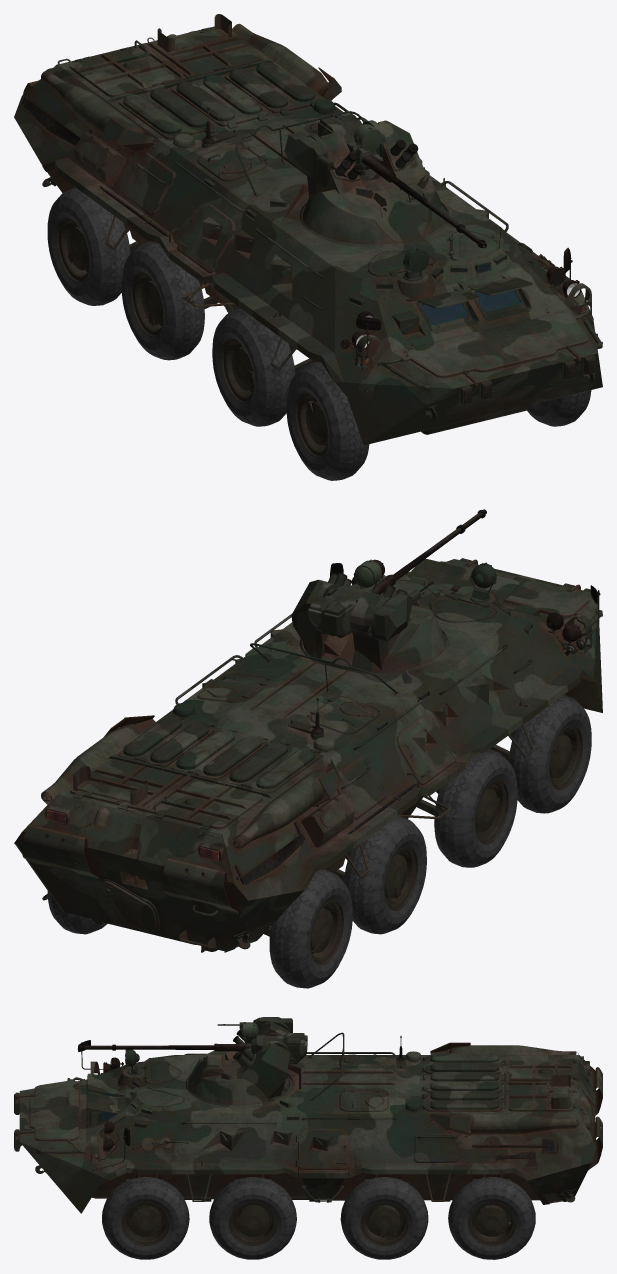
3 renders of one model, top to bottom at view 1: azimuth 30°, elevation 25°; view 2: azimuth 150°, elevation 25°; view 3: azimuth 270°, elevation 25°, orthographic. The views are drawn at different scales.
Parts seen in each view (by area): view 1: BTR_80_A, BTR_80_B, BTR_80_WA006, BTR_80_WA005, BTR_80_WA007, BTR_80_WA004, BTR_80_C, BTR_80_WB005, BTR_80_WB006, BTR_80_WB007, BTR_80_WB004, BTR_80_WA002 (+1 smaller); view 2: BTR_80_A, BTR_80_B, BTR_80_WA005, BTR_80_WA004, BTR_80_WA006, BTR_80_WA007, BTR_80_C, BTR_80_D, BTR_80_WB006, BTR_80_WB004, BTR_80_WB005, BTR_80_WB007 (+1 smaller); view 3: BTR_80_A, BTR_80_B, BTR_80_WA, BTR_80_WA003, BTR_80_WA001, BTR_80_WA002, BTR_80_C, BTR_80_WB001, BTR_80_WB002, BTR_80_WB003, BTR_80_WB, BTR_80_D.
Boxes of the visible parts, x1,y1,x2,y2 form: BTR_80_A: (14,14,602,445); BTR_80_B: (302,120,445,244); BTR_80_WA006: (121,241,204,360); BTR_80_WA005: (212,308,295,426); BTR_80_WA007: (47,187,130,305); BTR_80_WA004: (286,362,369,480); BTR_80_C: (284,112,486,248); BTR_80_WB005: (221,338,254,403); BTR_80_WB006: (130,272,163,336); BTR_80_WB007: (56,217,89,282); BTR_80_WB004: (295,392,328,457); BTR_80_WA002: (527,390,591,426); BTR_80_A: (14,558,602,952); BTR_80_B: (291,572,445,672); BTR_80_WA005: (434,749,517,867); BTR_80_WA004: (508,695,591,813); BTR_80_WA006: (344,815,426,934); BTR_80_WA007: (269,869,352,988); BTR_80_C: (308,509,486,640); BTR_80_D: (404,559,519,604); BTR_80_WB006: (384,846,417,910); BTR_80_WB004: (549,725,582,790); BTR_80_WB005: (475,779,508,844); BTR_80_WB007: (310,900,343,964); BTR_80_A: (14,1032,602,1213); BTR_80_B: (187,1020,295,1105); BTR_80_WA: (448,1177,535,1259); BTR_80_WA003: (209,1177,296,1259); BTR_80_WA001: (340,1177,428,1259); BTR_80_WA002: (102,1177,189,1259); BTR_80_C: (79,1017,307,1064); BTR_80_WB001: (360,1202,408,1245); BTR_80_WB002: (121,1202,169,1245); BTR_80_WB003: (229,1202,277,1245); BTR_80_WB: (468,1202,515,1245); BTR_80_D: (87,1073,119,1113).
Bounding box in the file's own units: 0.7676 × 2 × 0.737.
